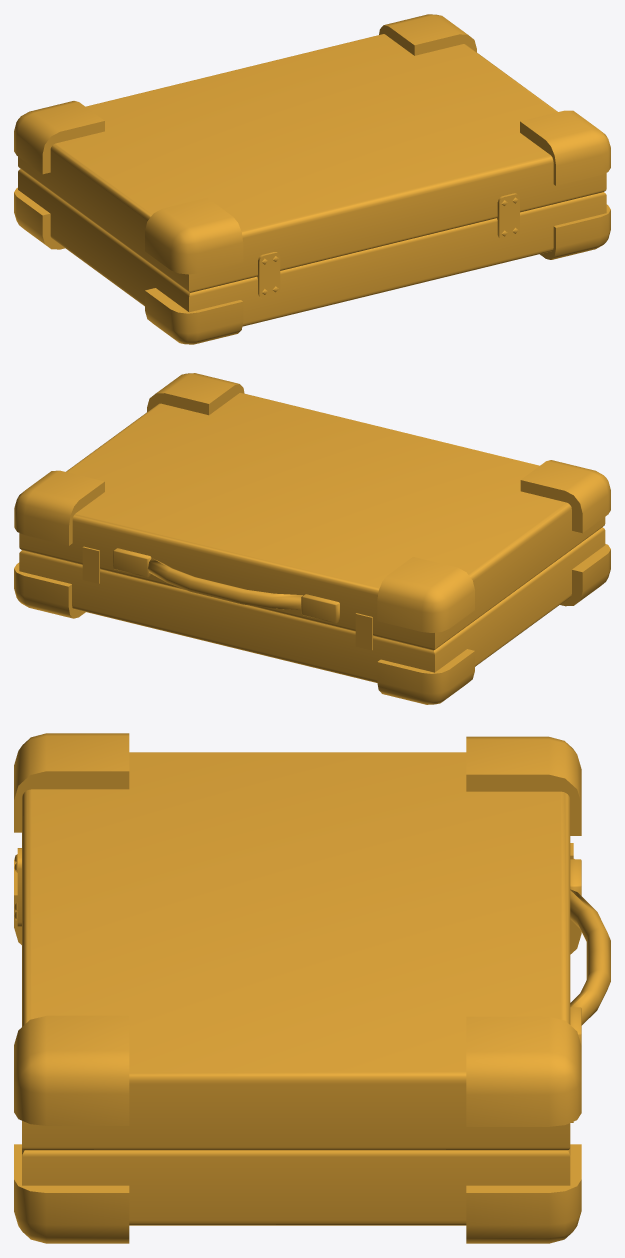
Rendered from maleta 1.fbx.
3 renders of one model, top to bottom at view 1: azimuth 30°, elevation 25°; view 2: azimuth 150°, elevation 25°; view 3: azimuth 270°, elevation 25°, orthographic. The views are drawn at different scales.
Visible parts, largest first — view 1: Cube.009; view 2: Cube.009; view 3: Cube.009.
Part boxes in pixels (x1,y1,x2,y2): Cube.009: (14, 14, 610, 344); Cube.009: (14, 373, 610, 704); Cube.009: (14, 733, 610, 1243).
Size of the model in its own units: 14.11 by 3.65 by 10.41.
